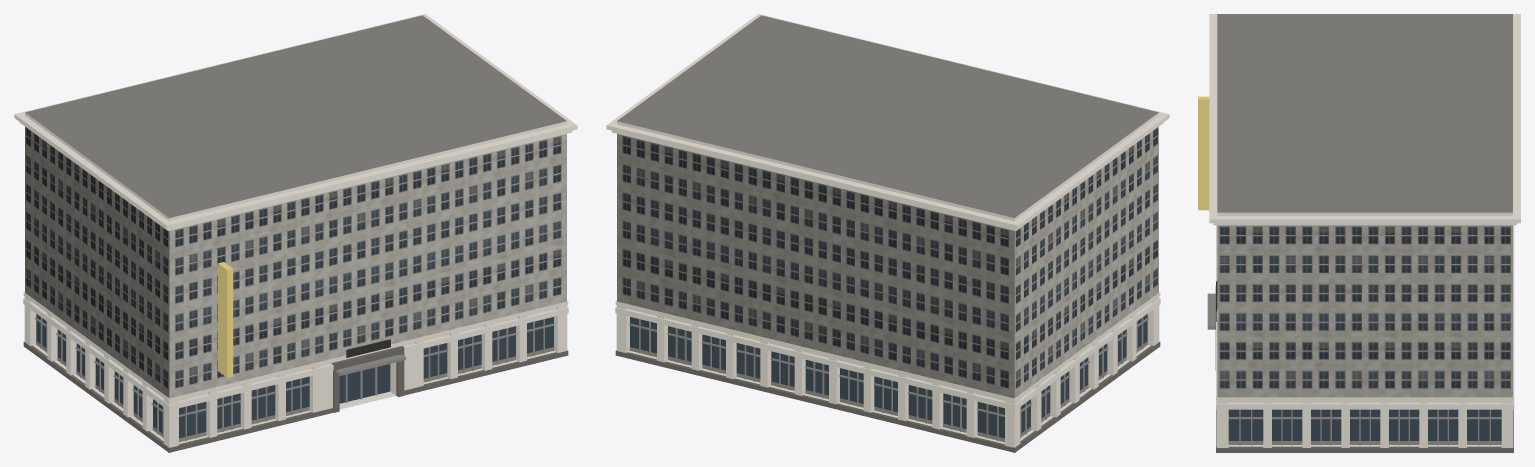
File: moore_theatre.glb
3 renders of one model, left to right at view 1: azimuth 30°, elevation 25°; view 2: azimuth 150°, elevation 25°; view 3: azimuth 270°, elevation 25°, orthographic. The views are drawn at different scales.
Visible parts, largest first — view 1: moore_theatre; view 2: moore_theatre; view 3: moore_theatre.
Boxes of the visible parts, x1,y1,x2,y2 form: moore_theatre: [14, 14, 577, 452]; moore_theatre: [606, 14, 1169, 452]; moore_theatre: [1198, 14, 1520, 452].
Bounding box in the file's own units: 55.8 × 30.4 × 37.1.
Materials: 2 (2 with a texture image).
